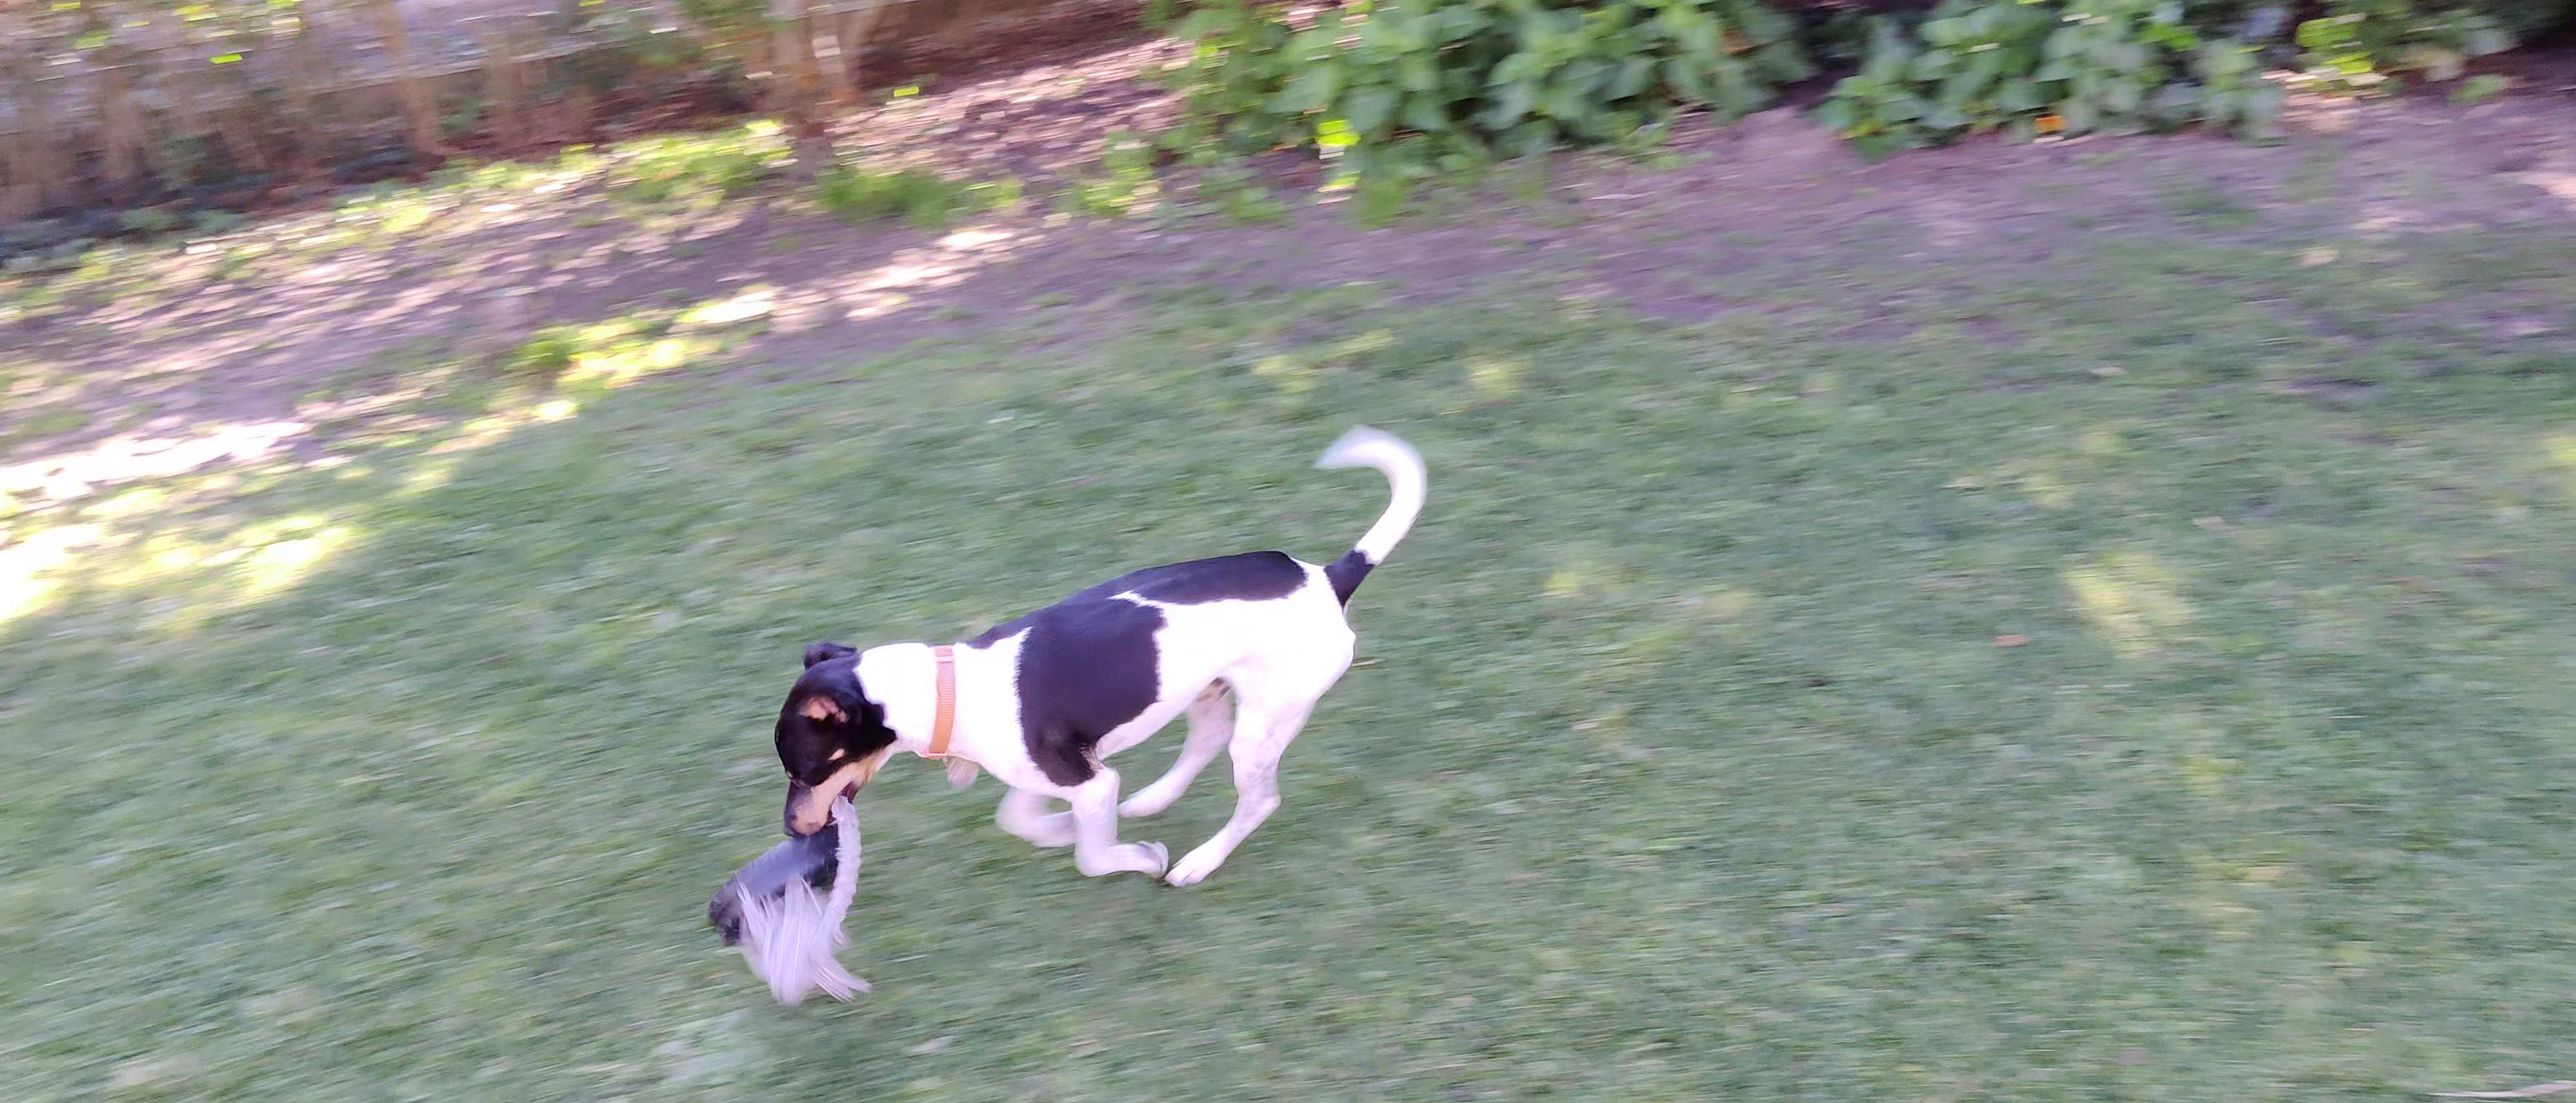Dog: (762, 399, 1439, 911)
